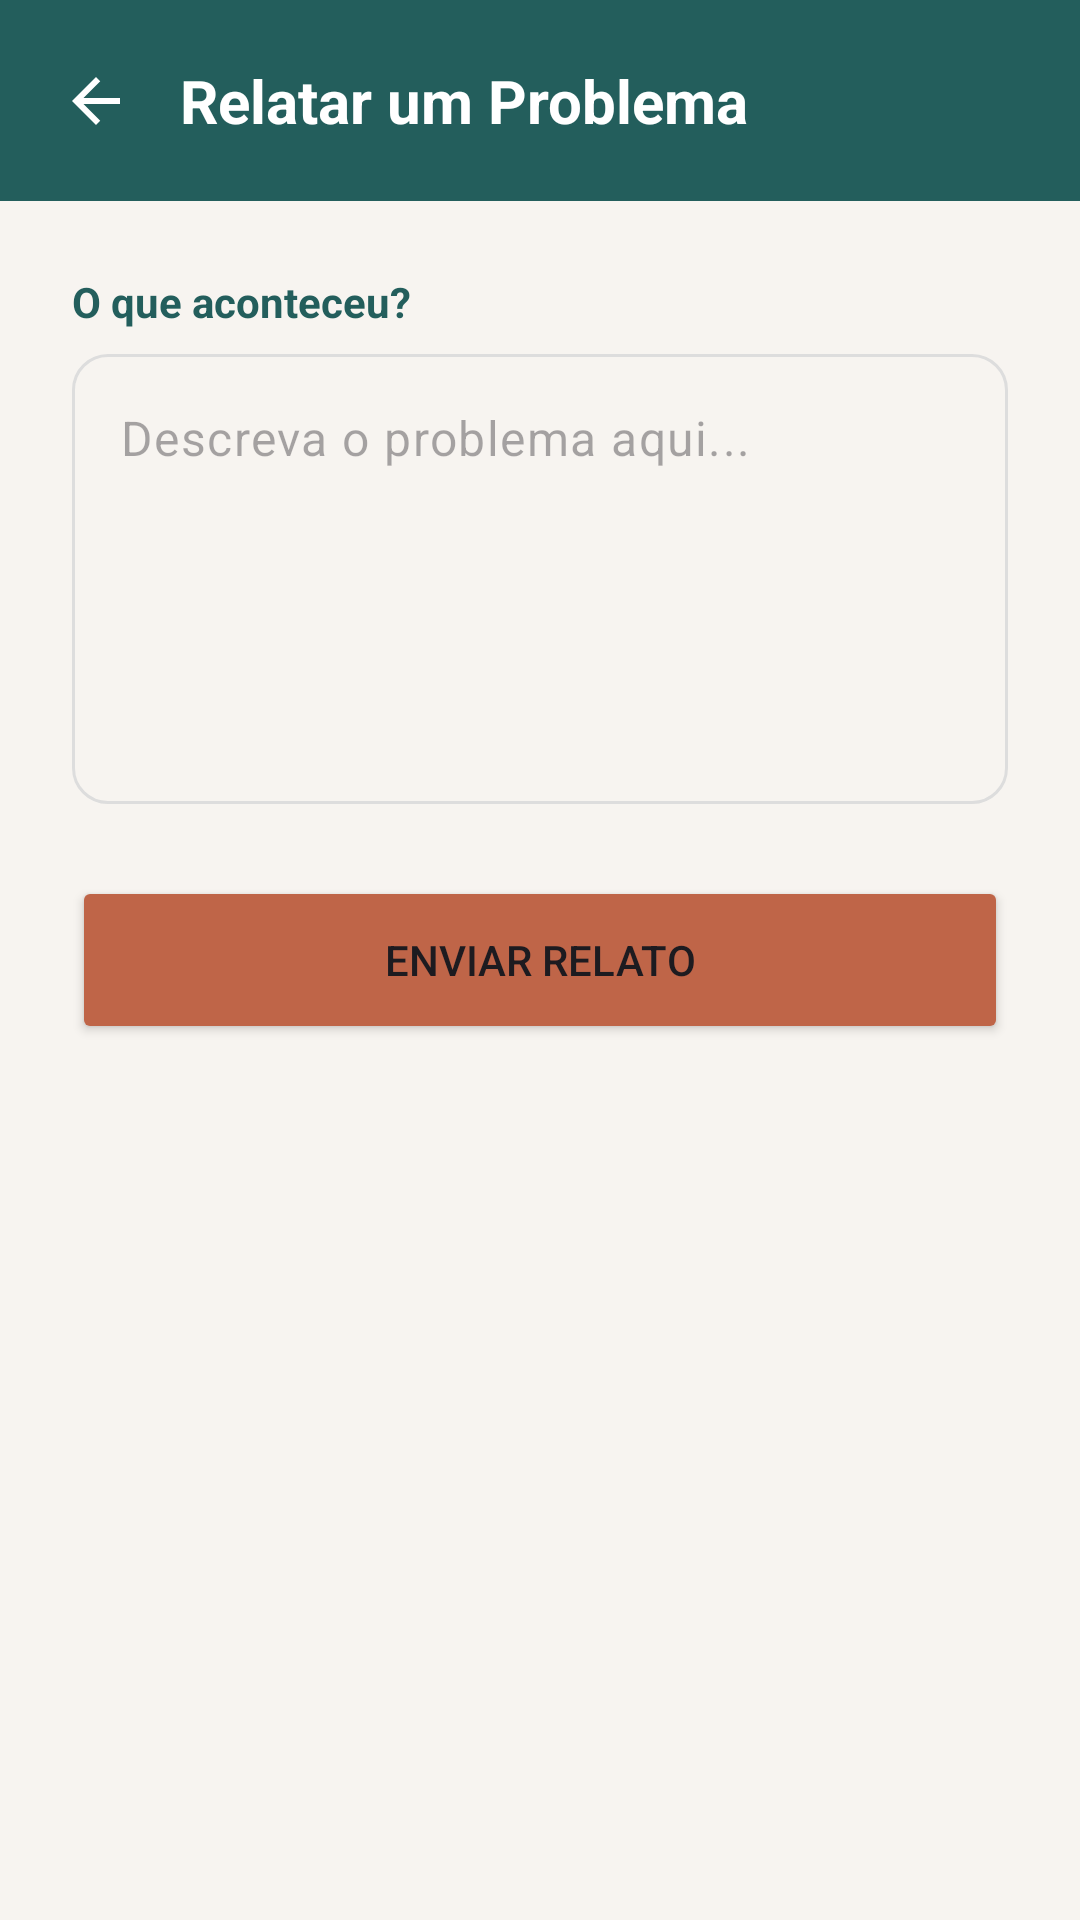

Named icons in this screenshot (1080px×1920px) and their centers, point (x, y):
Voltar: point (96, 101)
